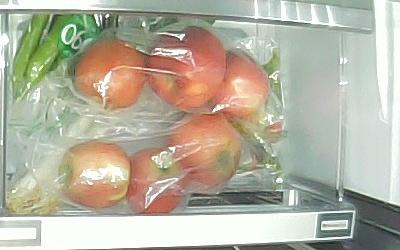apple_vinyl: (146, 26, 227, 111), (165, 112, 241, 184), (74, 39, 147, 109), (59, 141, 128, 207), (210, 50, 268, 117), (128, 148, 183, 212)
